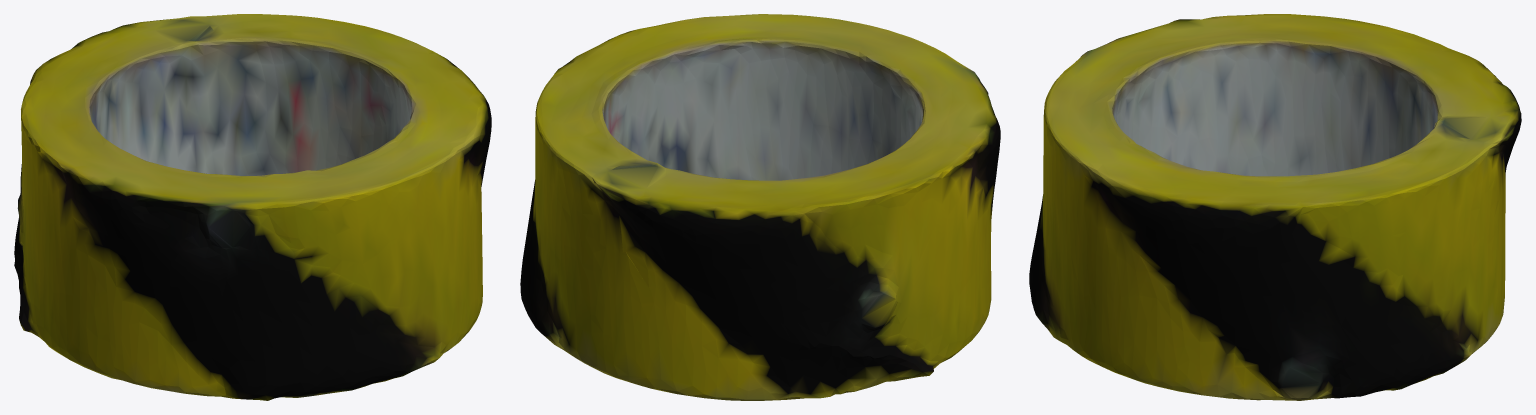
The model's file is scan.obj.
The picture shows the model from 3 angles, left to right: view 1: azimuth 30°, elevation 25°; view 2: azimuth 150°, elevation 25°; view 3: azimuth 270°, elevation 25°; orthographic projection.
Visible parts, largest first — view 1: scan.ply; view 2: scan.ply; view 3: scan.ply.
Part boxes in pixels (left/top/right/bottom): scan.ply: left=14, top=14, right=491, bottom=400; scan.ply: left=520, top=14, right=1000, bottom=400; scan.ply: left=1029, top=14, right=1521, bottom=400.
Bounding box in the file's own units: 0.1119 × 0.0525 × 0.1166.
